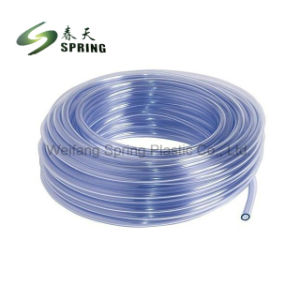Nonrec_Plastic: (40, 64, 276, 234)
